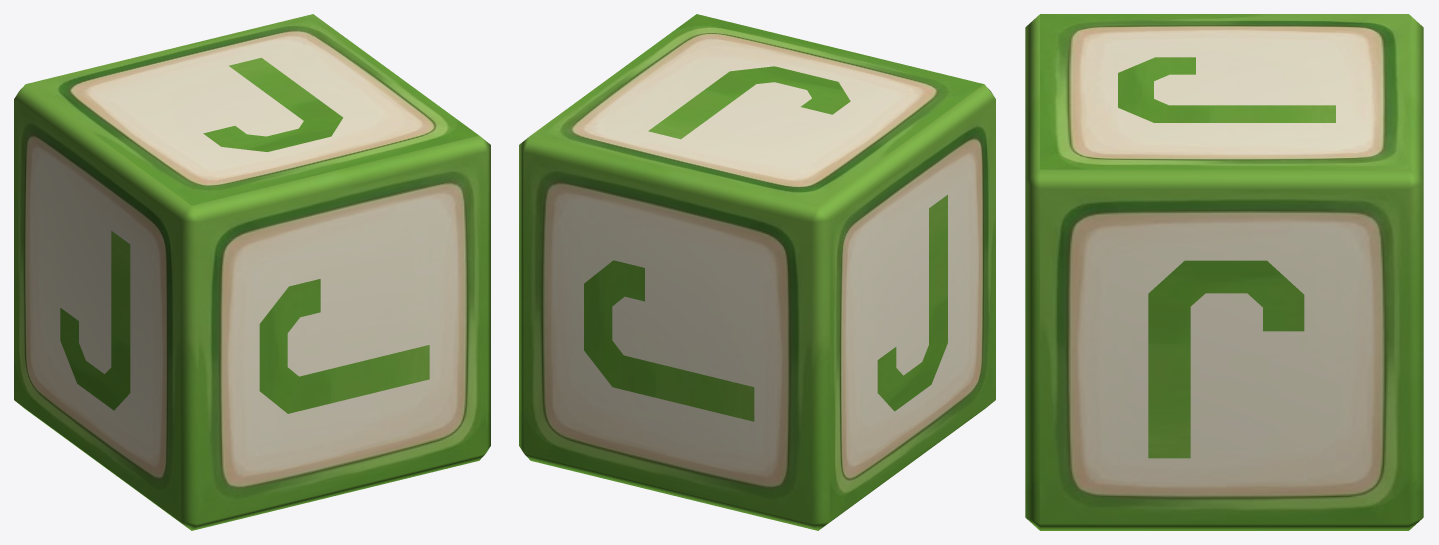
Rendered from CubeJ.glb.
The picture shows the model from 3 angles, left to right: view 1: azimuth 30°, elevation 25°; view 2: azimuth 150°, elevation 25°; view 3: azimuth 270°, elevation 25°; orthographic projection. The views are drawn at different scales.
Visible parts, largest first — view 1: CubeJ; view 2: CubeJ; view 3: CubeJ.
Part boxes in pixels (x1,y1,x2,y2): CubeJ: (14,14,490,530); CubeJ: (519,14,995,530); CubeJ: (1025,14,1423,530).
Size of what is drawn, in the model's own units: 0.513 by 0.513 by 0.513.
1 material, 1 textured.
